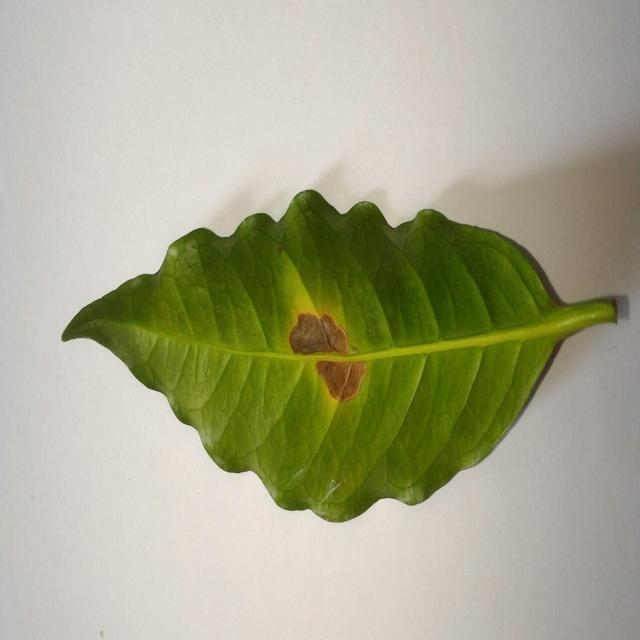Plaga-Minador: (61, 190, 622, 526)
